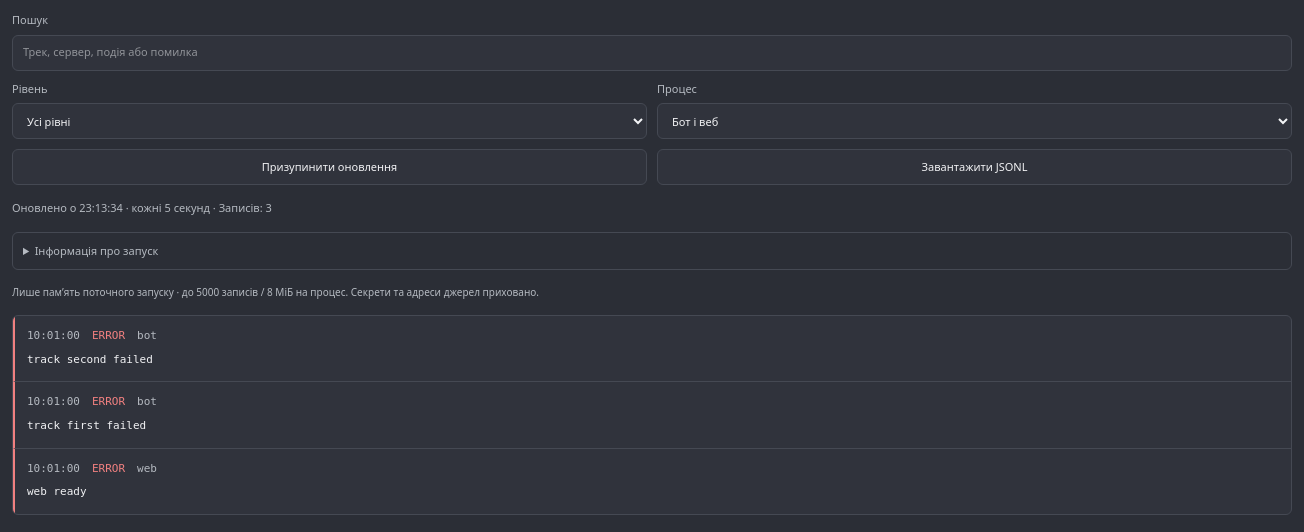
Test: polls incrementally, filters errors, pauses, and replaces previous-run records after restart
Expected: the text "track first failed" is shown, [27, 419, 146, 432]
Expected: the text "track second failed" is shown, [27, 353, 153, 366]
Type "second" into the search field at (652, 52), box [12, 34, 1292, 70]
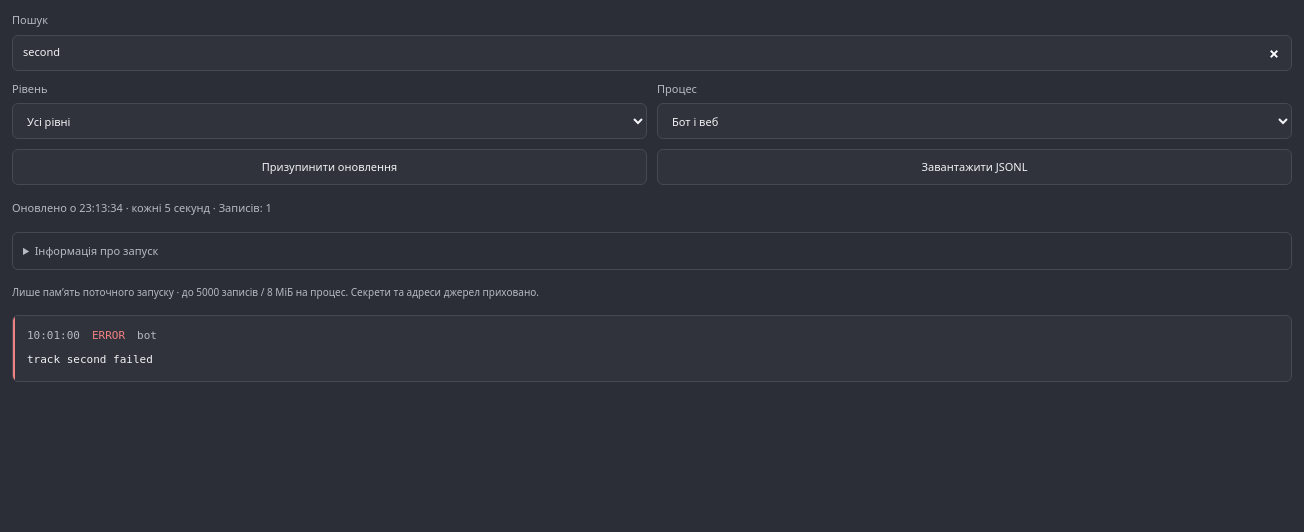
Expected: the text "track second failed" is shown, [27, 353, 153, 366]
Result: the heading "track first failed" is gone
Click the button "Призупинити оновлення" at (330, 167), box [12, 149, 647, 185]
Wait 15000 ms
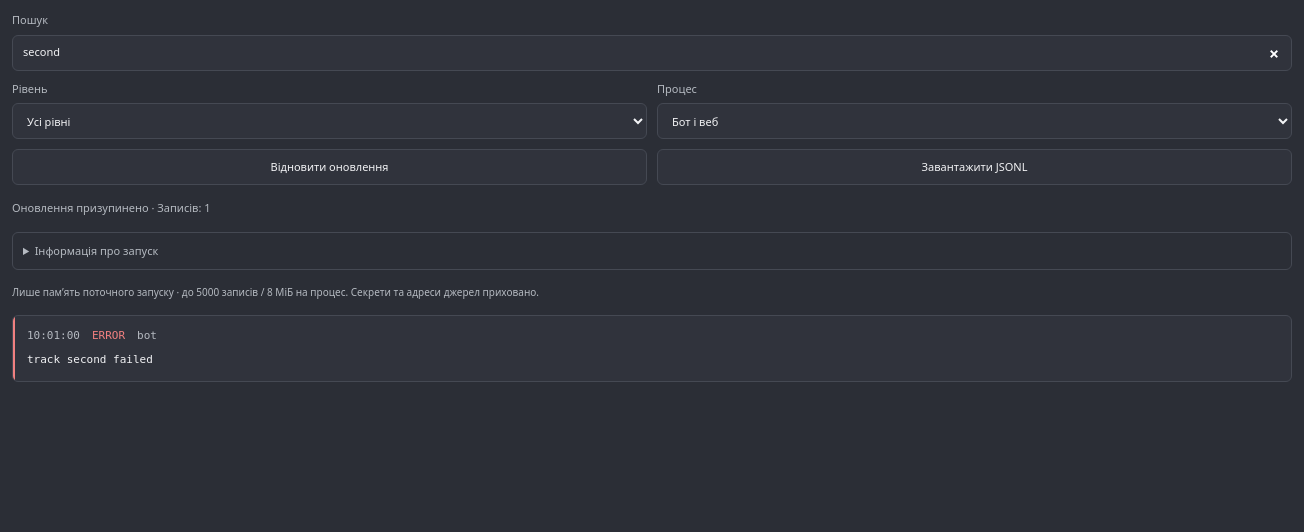
Clear the search field at (652, 52), box [12, 34, 1292, 70]
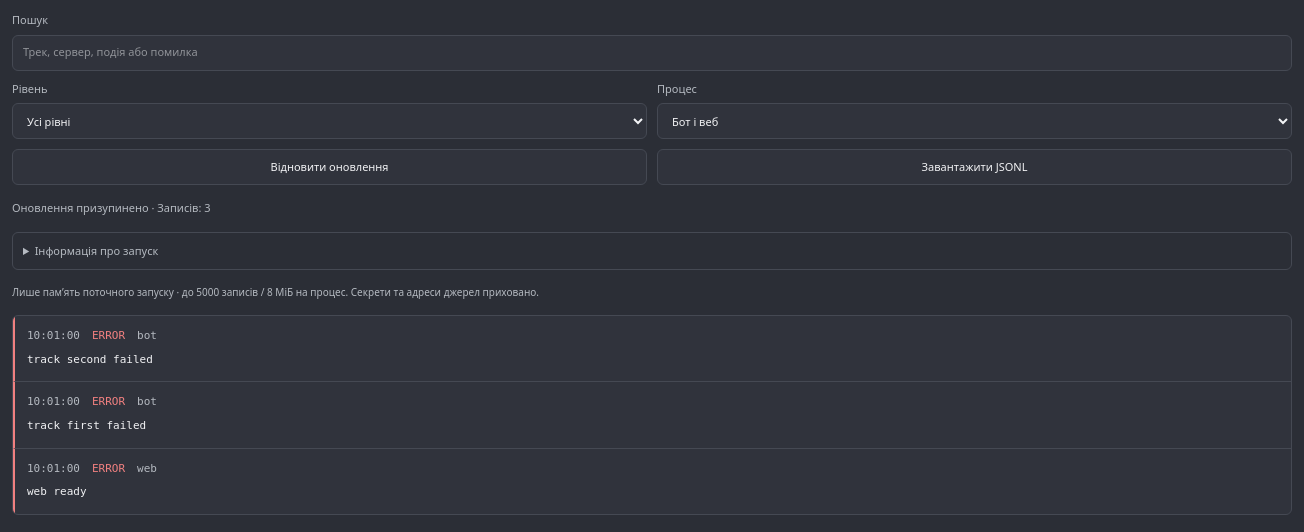
Click the button "Відновити оновлення" at (330, 167), box [12, 149, 647, 185]
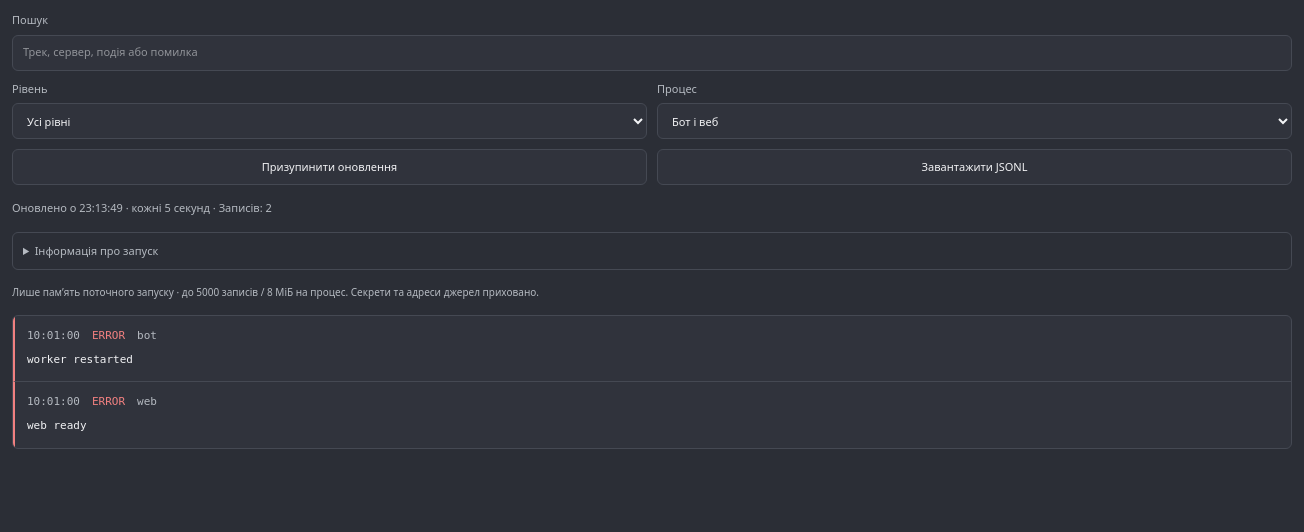
Result: the text "worker restarted" is shown at [27, 353, 133, 366]
Result: the heading "track first failed" is gone
